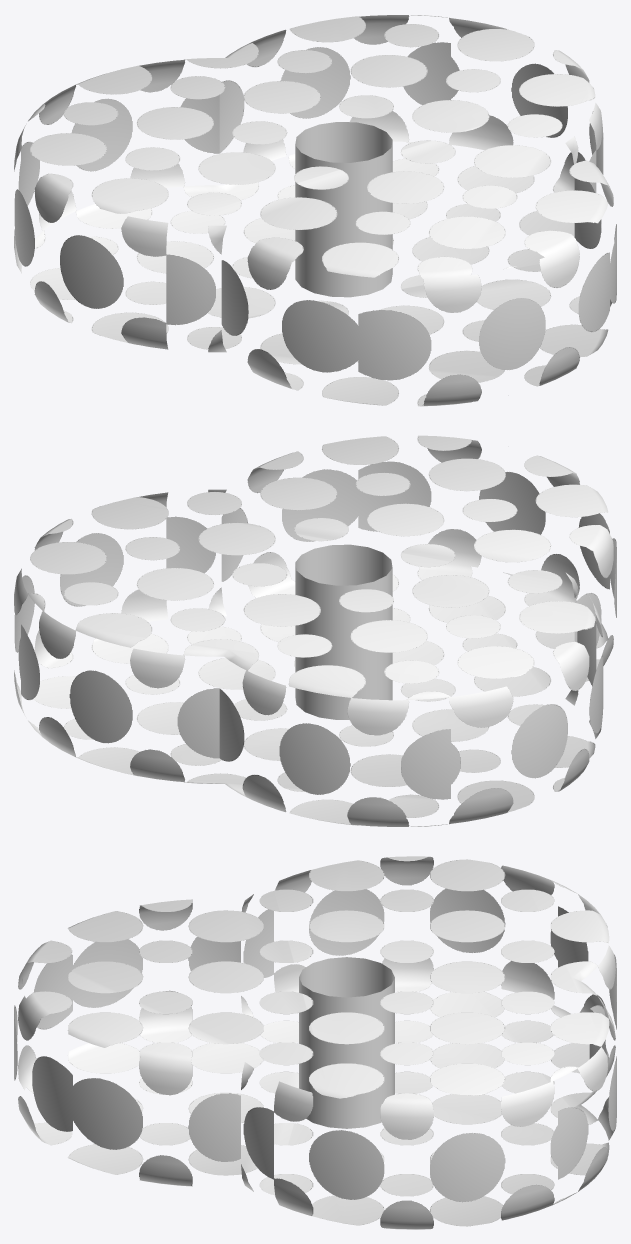
3 views of the same model, one above another, from view 1: azimuth 30°, elevation 25°; view 2: azimuth 150°, elevation 25°; view 3: azimuth 270°, elevation 25° (orthographic). The views are drawn at different scales.
Parts seen in each view (by area): view 1: CloverOriginal.013; view 2: CloverOriginal.013; view 3: CloverOriginal.013.
Part boxes in pixels (x1,y1,x2,y2): CloverOriginal.013: [14, 15, 616, 406]; CloverOriginal.013: [14, 435, 616, 826]; CloverOriginal.013: [14, 856, 616, 1229].
Size of the model in its own units: 295 by 70.83 by 295.
